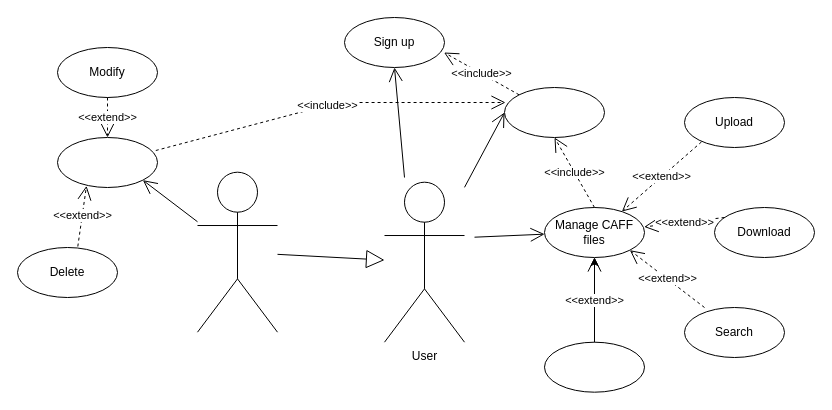
Image size: 832x410. Some labels were removed from this diagram. The shapes that lost their labels are listed below. From the top down, each one's box as (x1, y1, x2, y2) in pixels, then its label:
(504, 86, 604, 138): Sign in
(56, 136, 158, 188): Manage data
(196, 171, 278, 332): Administrator
(544, 341, 644, 392): Comment on
